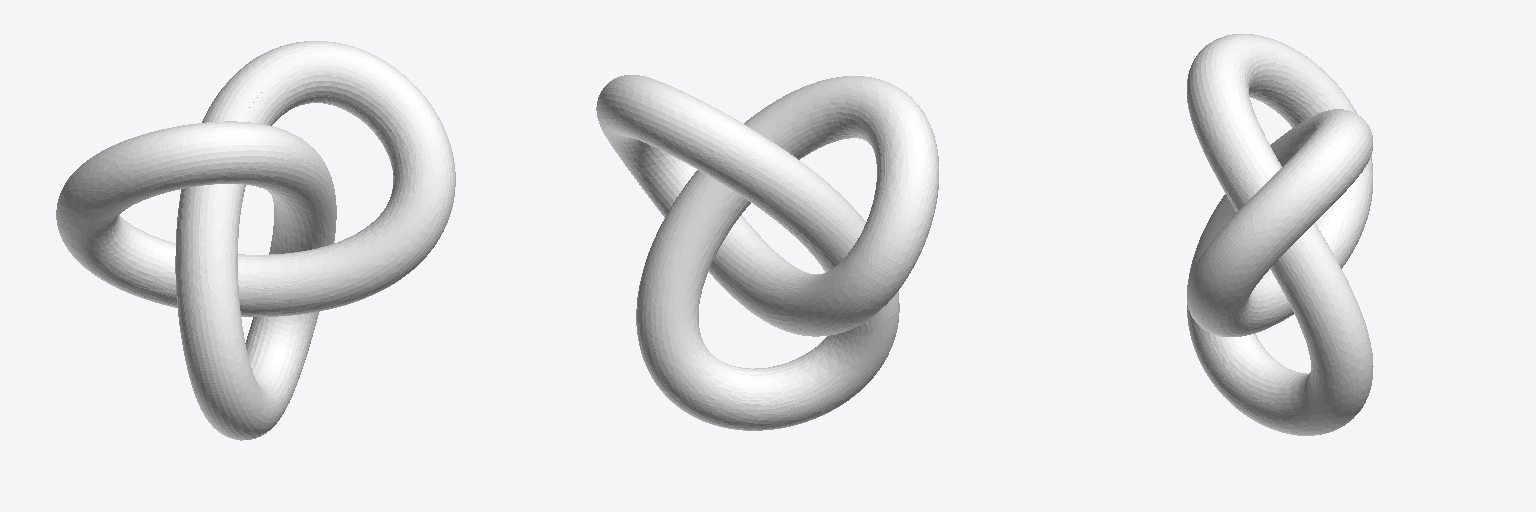
Rendered from tangle4.obj.
3 views of the same model, side by side, from view 1: azimuth 30°, elevation 25°; view 2: azimuth 150°, elevation 25°; view 3: azimuth 270°, elevation 25° (orthographic).
Visible parts, largest first — view 1: Sweep.001, Sweep; view 2: Sweep.001, Sweep; view 3: Sweep.001, Sweep.
Part boxes in pixels (x1,y1,x2,y2): Sweep.001: (56,41,455,440); Sweep: (56,41,455,440); Sweep.001: (596,75,938,430); Sweep: (596,75,938,430); Sweep.001: (1187,34,1372,435); Sweep: (1187,34,1373,435).
Size of the model in its own units: 324 by 303 by 150.